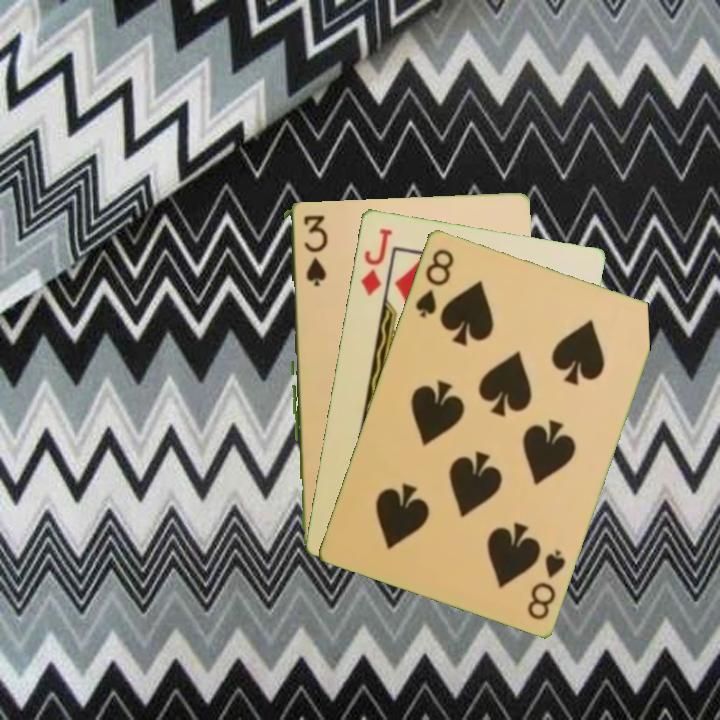3s: (299, 211, 324, 289)
8s: (523, 545, 568, 622), (411, 245, 457, 320)
Jd: (356, 224, 395, 299)
